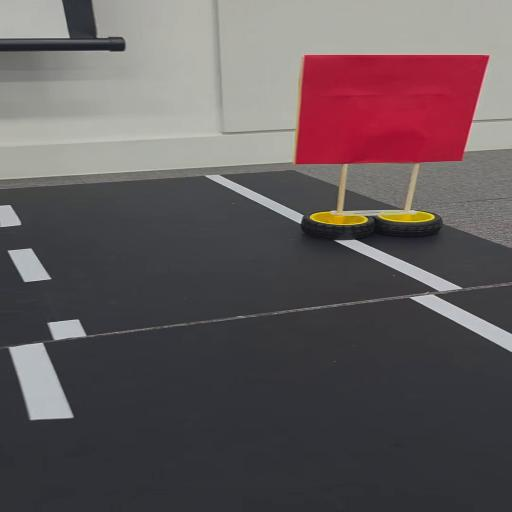Sign_A: (286, 46, 512, 243)
